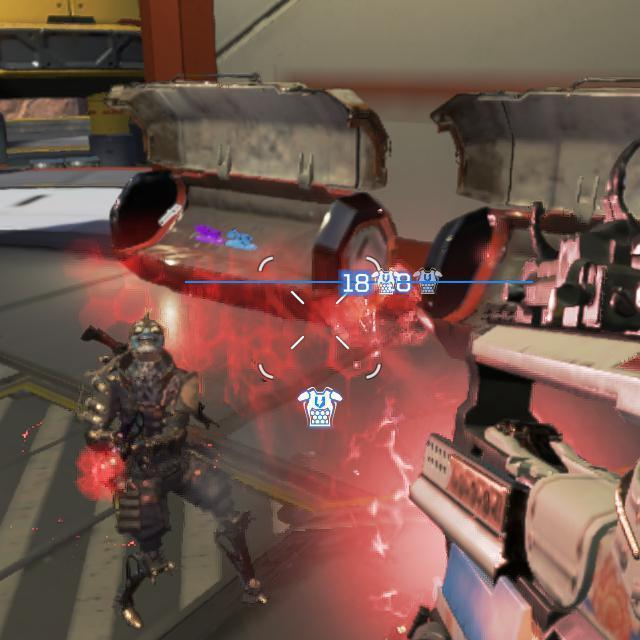avatar: (70, 308, 271, 630)
object: (75, 444, 126, 504)
